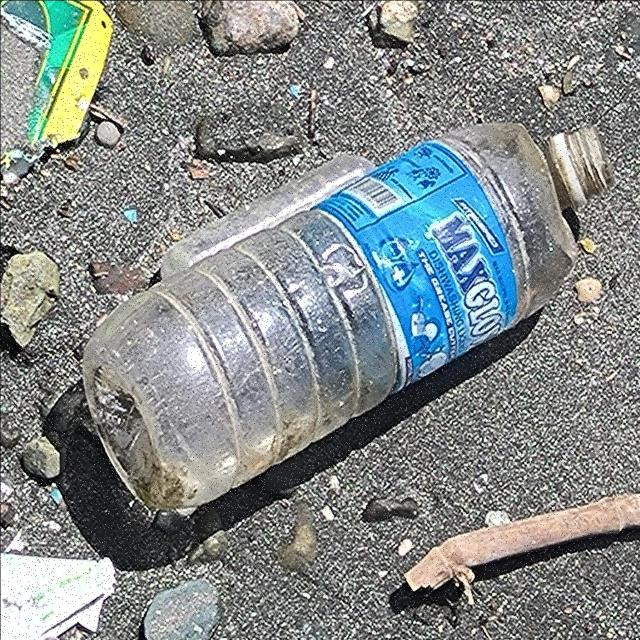plastic_waste: (84, 124, 615, 512)
